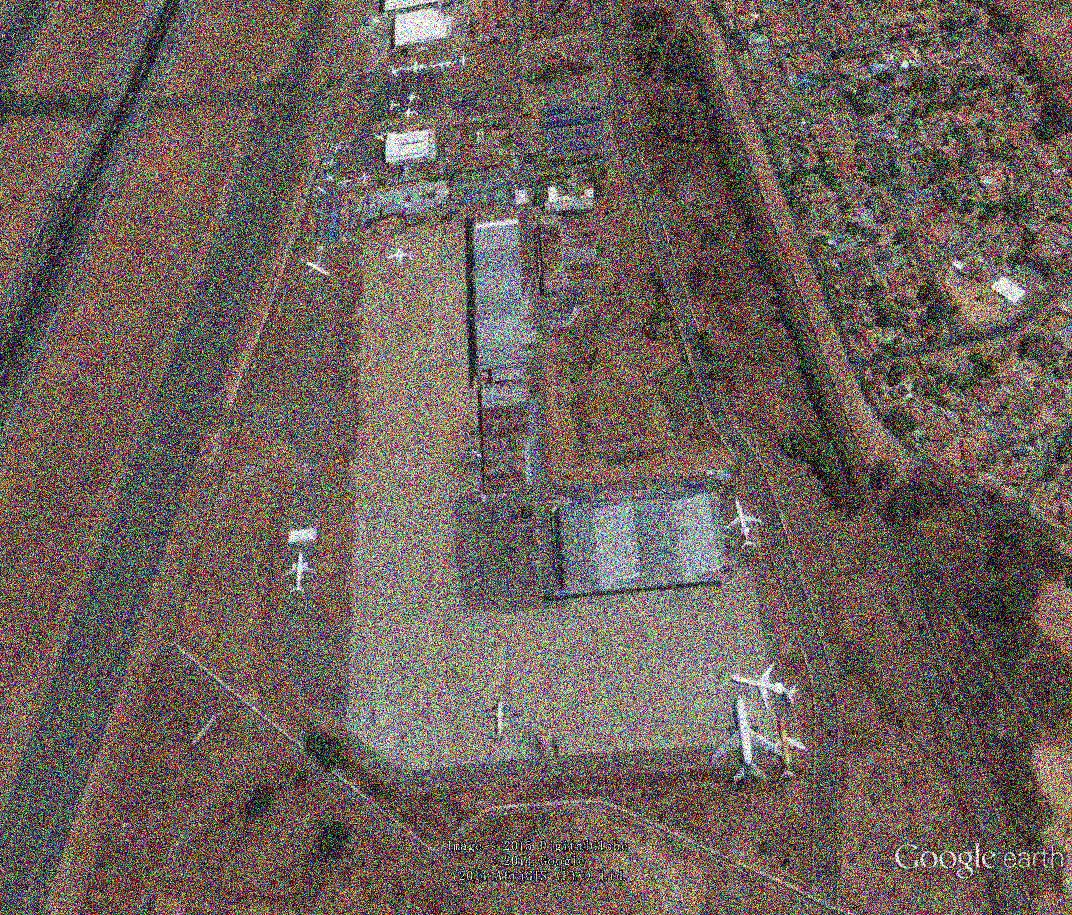aircraft: (705, 694, 792, 791), (725, 660, 799, 712), (763, 713, 813, 783), (473, 696, 527, 745), (724, 495, 765, 553), (278, 548, 320, 597), (294, 250, 334, 280), (383, 244, 417, 270), (430, 56, 456, 75), (399, 105, 424, 123), (354, 171, 378, 189), (309, 182, 330, 201), (405, 60, 425, 77), (404, 91, 424, 106), (388, 63, 404, 81), (320, 171, 337, 187), (372, 130, 390, 145), (329, 139, 345, 155), (323, 154, 340, 169), (386, 98, 404, 112), (337, 176, 354, 190), (456, 54, 474, 67)
